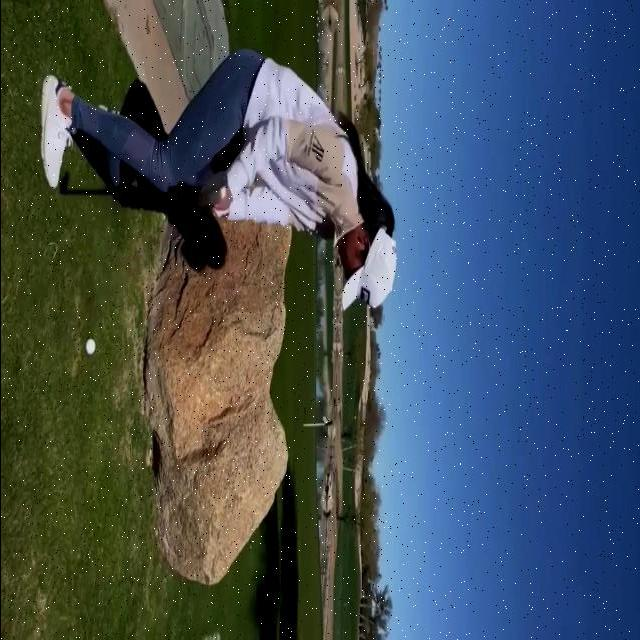golf ball: (85, 338, 94, 355)
golf club-head: (196, 170, 227, 207)
